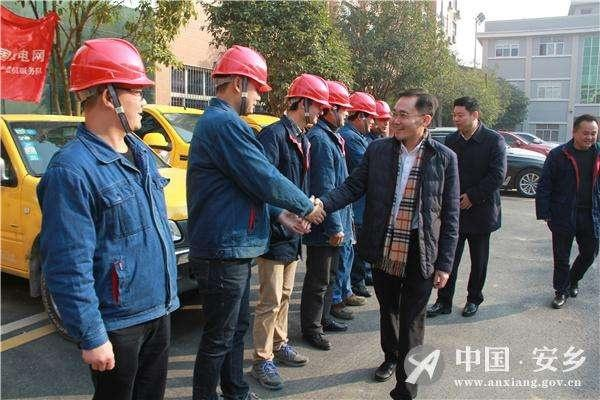Helmet: (209, 45, 273, 114)
NoHelmet: (389, 88, 440, 142)
